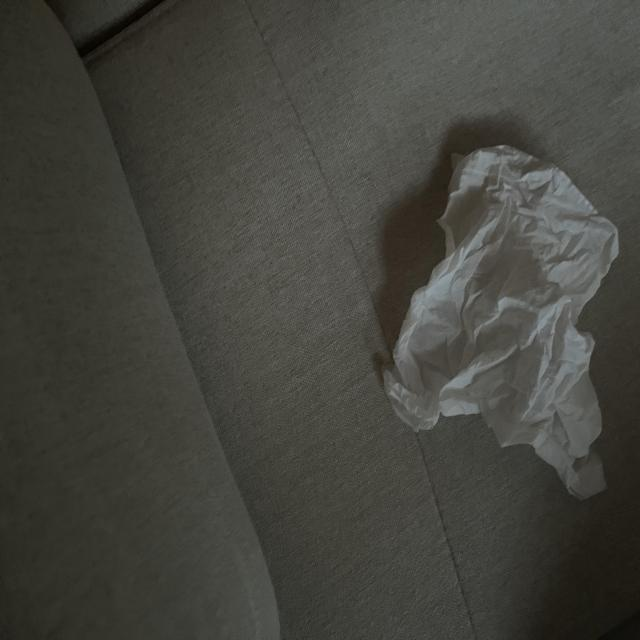Paper: (370, 146, 606, 507)
